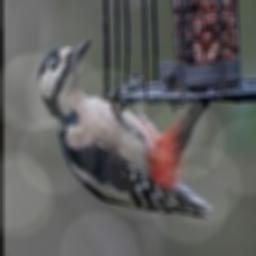Woodpecker: (38, 39, 212, 219)
